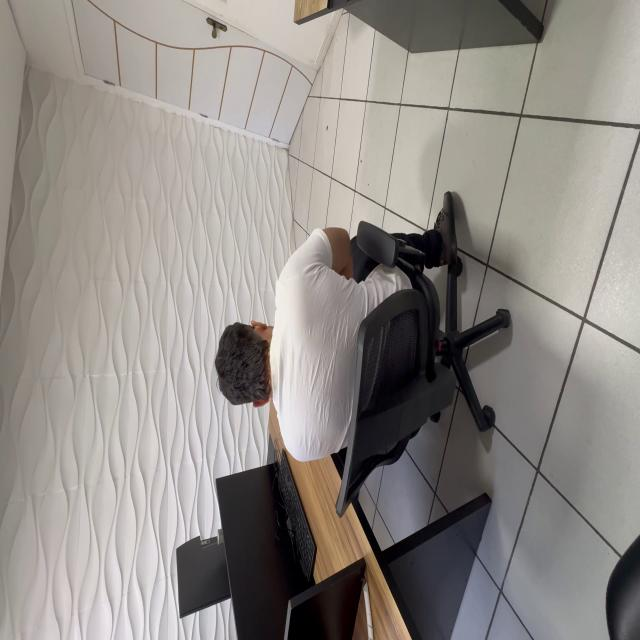sentado: (214, 192, 464, 519)
